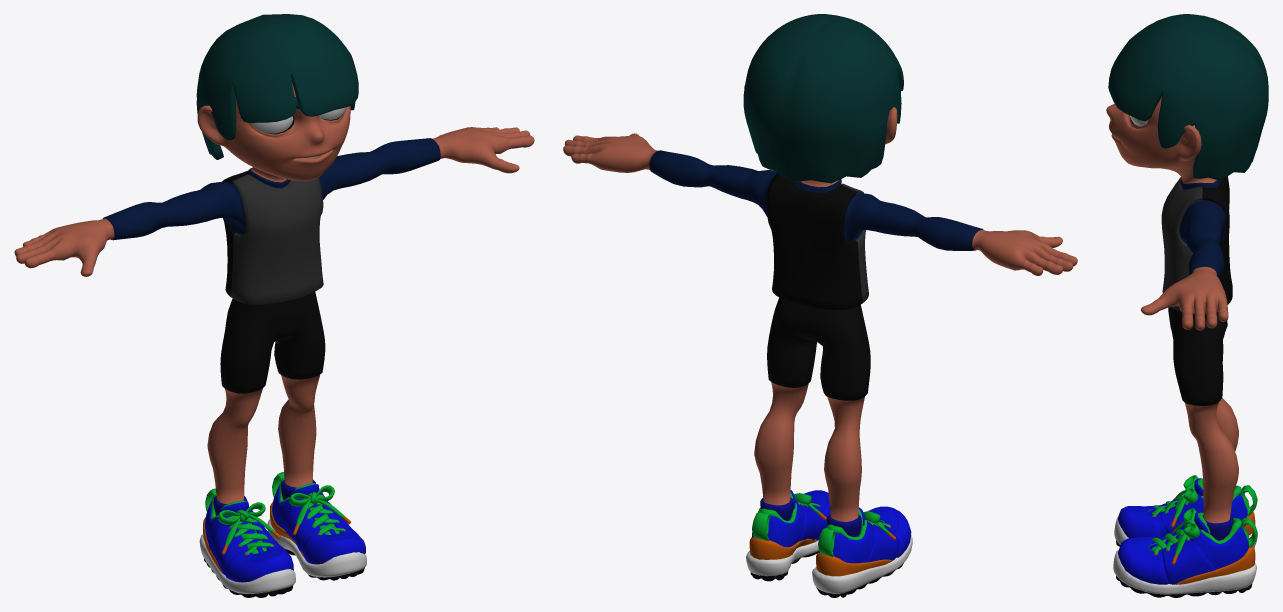
Rendered from Character.fbx.
3 renders of one model, left to right at view 1: azimuth 30°, elevation 25°; view 2: azimuth 150°, elevation 25°; view 3: azimuth 270°, elevation 25°, orthographic.
Visible parts, largest first — view 1: Body, Hair, Shoes; view 2: Body, Hair, Shoes; view 3: Body, Hair, Shoes.
Boxes of the visible parts, bbox=[...] form: Body: bbox=[14, 83, 534, 515]; Hair: bbox=[196, 14, 358, 159]; Shoes: bbox=[199, 472, 366, 597]; Body: bbox=[563, 85, 1077, 536]; Hair: bbox=[743, 14, 903, 183]; Shoes: bbox=[746, 490, 912, 597]; Body: bbox=[1106, 97, 1238, 540]; Hair: bbox=[1108, 14, 1268, 180]; Shoes: bbox=[1113, 475, 1257, 597].
Size of the model in its own units: 165 by 169 by 45.56.
